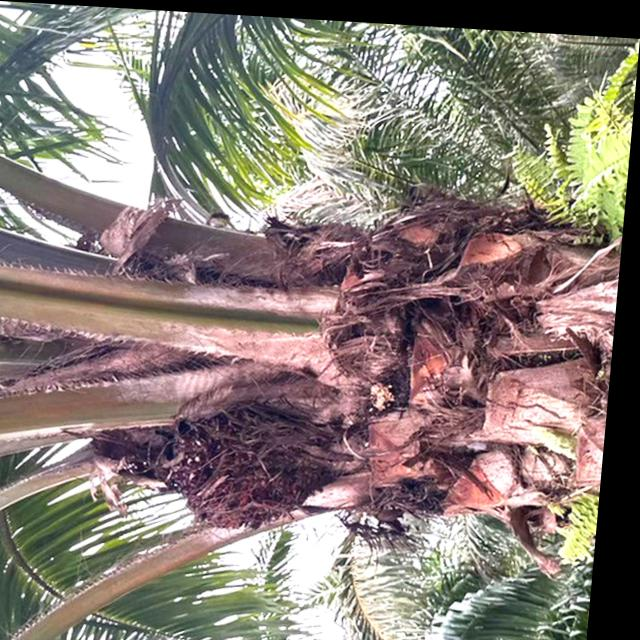ripe: (162, 385, 334, 531)
